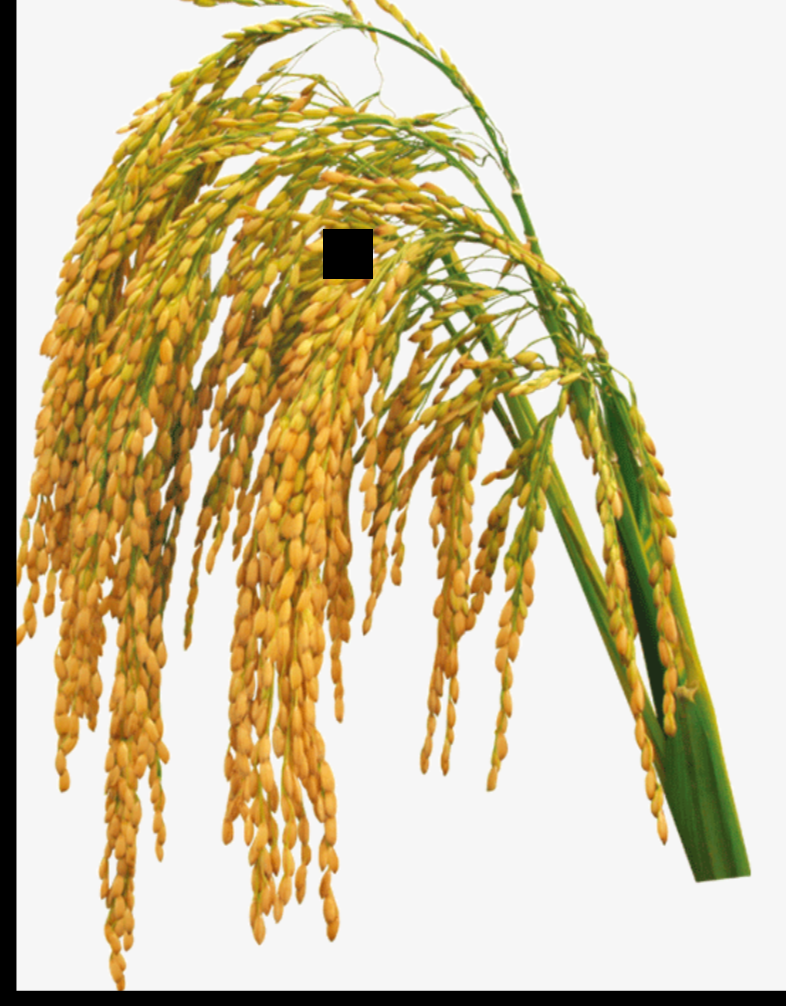rice: (17, 48, 506, 983)
